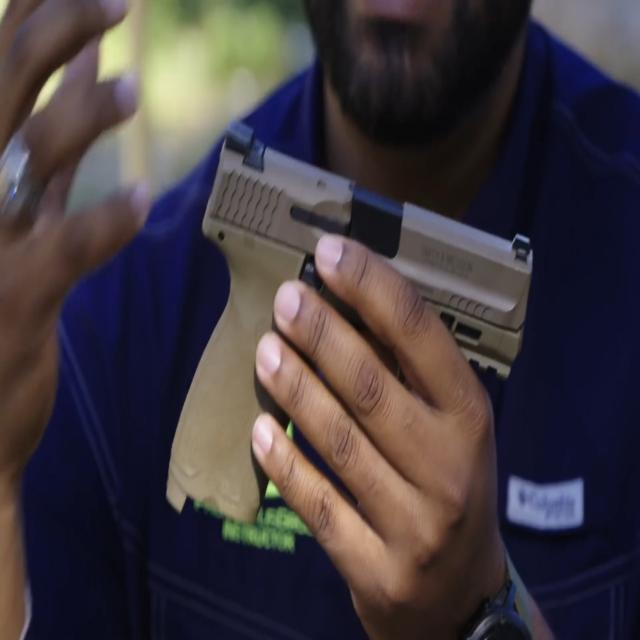handgun: (149, 76, 537, 533)
